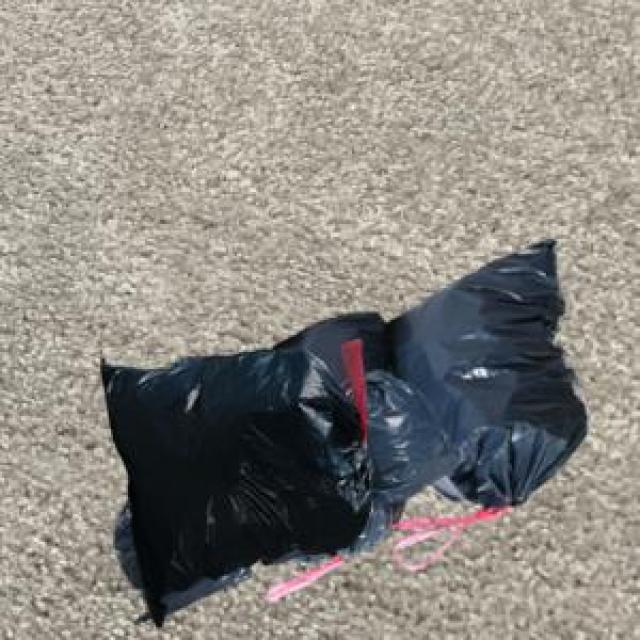waste: (104, 242, 588, 623)
